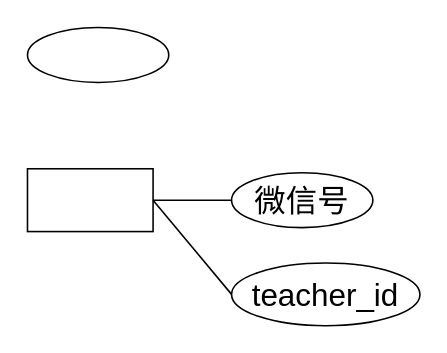
Image size: 447x353. Some labels were removed from this diagram. Here are the shapes that lost their labels. From the top down, the centre of each, then its label:
At point (97, 54): "性别".
At point (89, 199): "学生".
